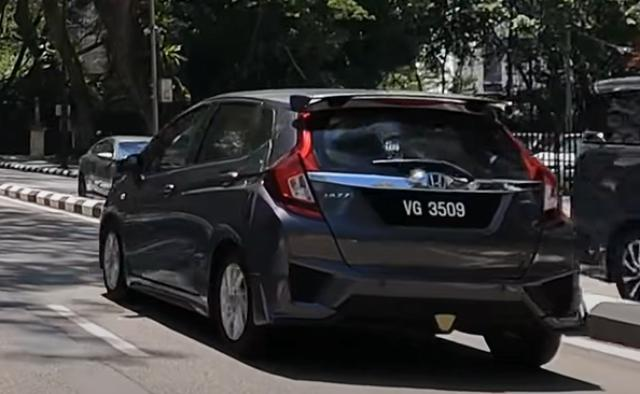License_Plate: (378, 195, 492, 227)
car: (99, 88, 590, 368)
